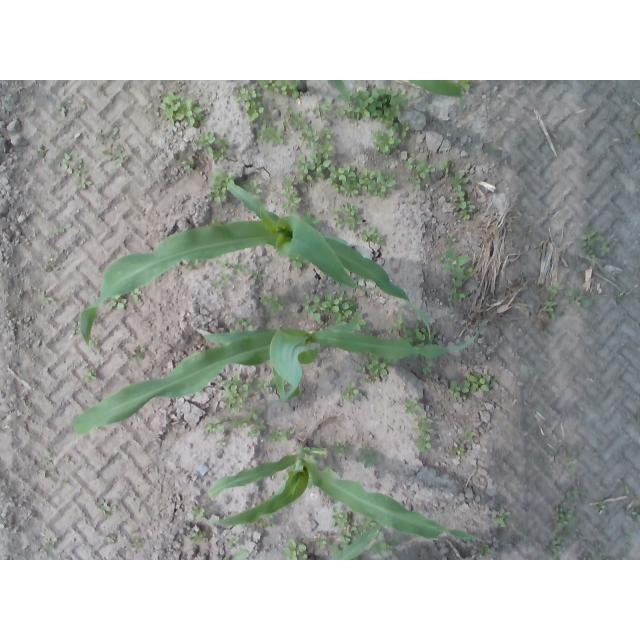Maize: (79, 179, 426, 345), (68, 327, 488, 433), (204, 440, 481, 541), (230, 525, 382, 560), (250, 81, 482, 100)
Weeds: (284, 151, 396, 204), (338, 88, 411, 125), (445, 250, 475, 303), (303, 294, 355, 322), (452, 170, 477, 223), (162, 93, 202, 126), (224, 374, 252, 413), (235, 87, 265, 122), (408, 155, 436, 190), (333, 203, 363, 230), (372, 127, 400, 154), (264, 82, 307, 98), (419, 412, 434, 453), (259, 123, 284, 146), (245, 412, 268, 437), (209, 171, 228, 200), (261, 291, 284, 313), (359, 227, 386, 244), (284, 541, 308, 560), (360, 448, 382, 468), (289, 112, 310, 132), (582, 230, 598, 255), (363, 360, 386, 377), (405, 396, 422, 419), (103, 146, 129, 161), (470, 375, 490, 394), (448, 380, 470, 397), (218, 260, 246, 273), (213, 140, 228, 164), (490, 510, 510, 527), (320, 131, 336, 152), (199, 131, 216, 150), (313, 102, 330, 121), (556, 507, 573, 526), (342, 383, 360, 399), (575, 291, 594, 306), (110, 297, 130, 311), (338, 529, 358, 543), (303, 131, 320, 147), (411, 323, 427, 340), (269, 426, 286, 442), (375, 544, 392, 560), (213, 274, 231, 289), (204, 423, 228, 434), (551, 542, 567, 558), (395, 315, 406, 337), (314, 532, 328, 549), (353, 311, 365, 330), (550, 283, 566, 297), (63, 153, 74, 173), (248, 179, 263, 193), (423, 363, 438, 377), (335, 442, 349, 457), (232, 318, 249, 330), (440, 161, 454, 175), (332, 512, 348, 524), (252, 268, 268, 280), (80, 175, 92, 190), (232, 550, 250, 560), (133, 349, 145, 363), (600, 246, 612, 259), (443, 235, 457, 246), (455, 442, 466, 456), (82, 374, 99, 383), (193, 533, 208, 543), (401, 124, 411, 139), (544, 301, 556, 313), (39, 145, 50, 158), (134, 536, 147, 547), (101, 500, 112, 512), (182, 159, 195, 169), (59, 224, 73, 233), (468, 427, 479, 438), (229, 537, 240, 548), (195, 507, 205, 518), (44, 295, 55, 305), (566, 460, 578, 469), (91, 337, 100, 348), (480, 546, 489, 557), (598, 504, 606, 512)
